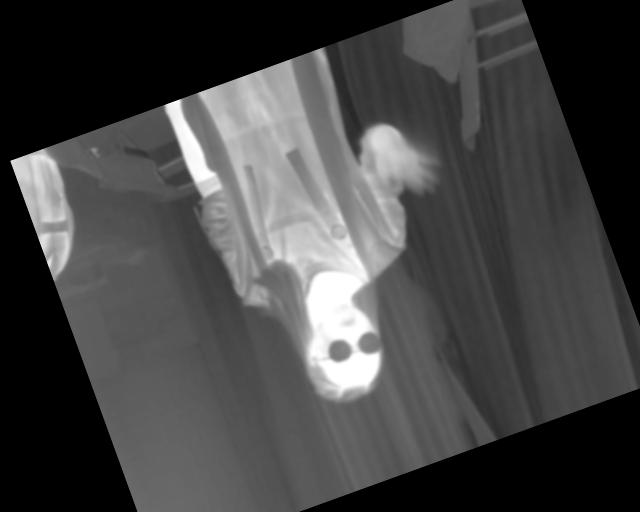face: (290, 292, 397, 411)
